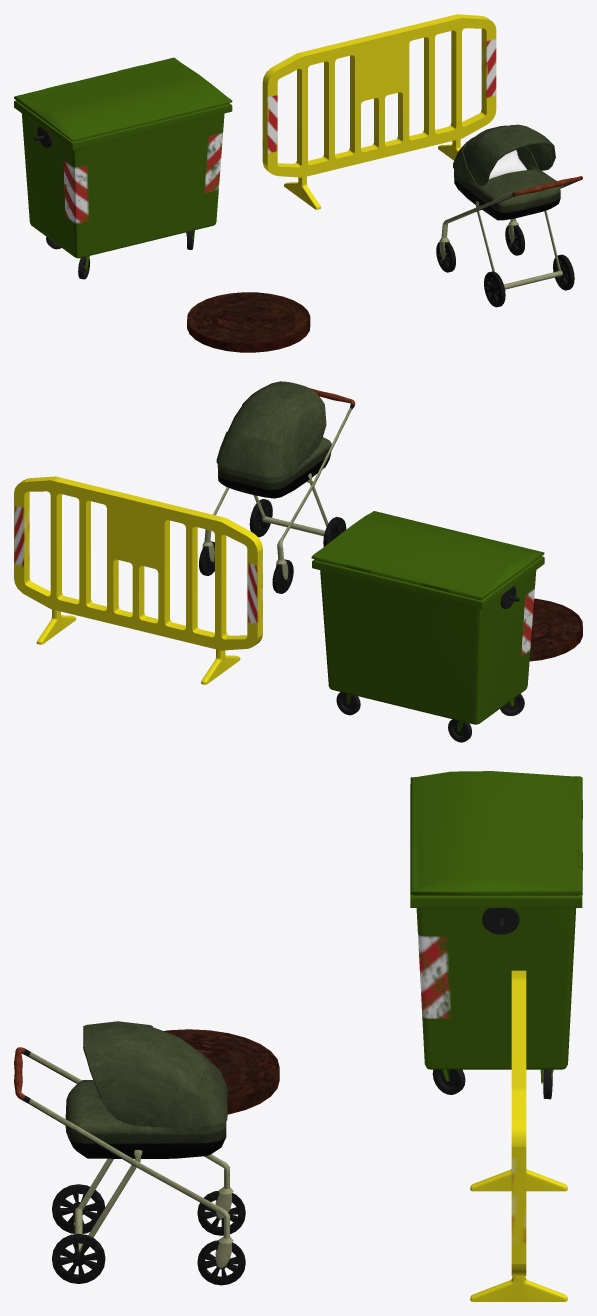
The model's file is objetos_parque_1.fbx.
3 renders of one model, top to bottom at view 1: azimuth 30°, elevation 25°; view 2: azimuth 150°, elevation 25°; view 3: azimuth 270°, elevation 25°, orthographic. The views are drawn at different scales.
Parts seen in each view (by area): view 1: Cubo_contenedor_basura, valla_obra, tapa_contenedor_basura, Silla, alcantarilla, hierros_carro, Rueda_trasera_izquierda, almohada1, Rueda_trasera_derecha; view 2: Cubo_contenedor_basura, valla_obra, tapa_contenedor_basura, Silla, alcantarilla, hierros_carro, Rueda_trasera_derecha, Rueda_delantera_Rueda_trasera_izquierda; view 3: Cubo_contenedor_basura, tapa_contenedor_basura, Silla, valla_obra, hierros_carro, alcantarilla, Rueda_trasera_derecha, Rueda_trasera_izquierda, Rueda_delantera_derecha, Rueda_delantera_Rueda_trasera_izquierda, enganche_negro.
Boxes of the visible parts, x1=… form: Cubo_contenedor_basura: x1=14, y1=65, x2=232, y2=258; valla_obra: x1=262, y1=14, x2=496, y2=209; tapa_contenedor_basura: x1=14, y1=57, x2=232, y2=141; Silla: x1=453, y1=124, x2=560, y2=220; alcantarilla: x1=187, y1=292, x2=310, y2=352; hierros_carro: x1=439, y1=176, x2=582, y2=289; Rueda_trasera_izquierda: x1=484, y1=271, x2=505, y2=307; almohada1: x1=489, y1=150, x2=526, y2=179; Rueda_trasera_derecha: x1=553, y1=254, x2=574, y2=290; Cubo_contenedor_basura: x1=312, y1=556, x2=544, y2=724; valla_obra: x1=14, y1=476, x2=262, y2=684; tapa_contenedor_basura: x1=311, y1=511, x2=544, y2=599; Silla: x1=216, y1=381, x2=331, y2=498; alcantarilla: x1=529, y1=598, x2=582, y2=661; hierros_carro: x1=202, y1=388, x2=355, y2=579; Rueda_trasera_derecha: x1=249, y1=499, x2=272, y2=537; Rueda_delantera_Rueda_trasera_izquierda: x1=272, y1=559, x2=293, y2=593; Cubo_contenedor_basura: x1=410, y1=784, x2=582, y2=1069; tapa_contenedor_basura: x1=410, y1=771, x2=582, y2=894; Silla: x1=65, y1=1021, x2=227, y2=1158; valla_obra: x1=470, y1=970, x2=567, y2=1301; hierros_carro: x1=14, y1=1047, x2=233, y2=1268; alcantarilla: x1=164, y1=1029, x2=279, y2=1114; Rueda_trasera_derecha: x1=52, y1=1233, x2=105, y2=1283; Rueda_trasera_izquierda: x1=52, y1=1184, x2=105, y2=1233; Rueda_delantera_derecha: x1=197, y1=1240, x2=245, y2=1285; Rueda_delantera_Rueda_trasera_izquierda: x1=197, y1=1190, x2=245, y2=1235; enganche_negro: x1=482, y1=908, x2=519, y2=934.
Bounding box in the file's own units: 407 × 140 × 293.
1 material, 1 textured.
